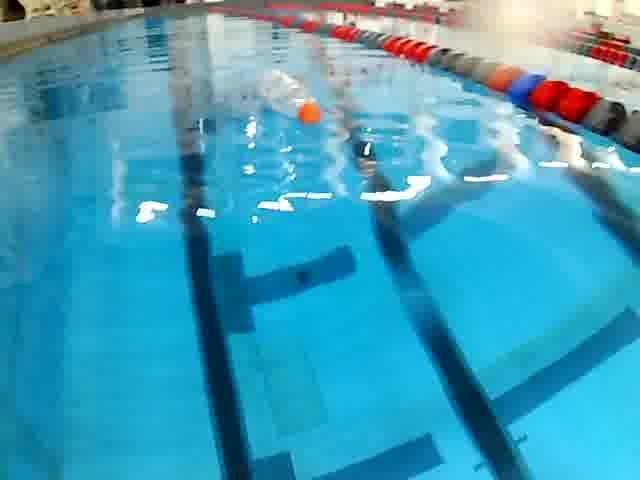Bottle: (252, 63, 332, 135)
